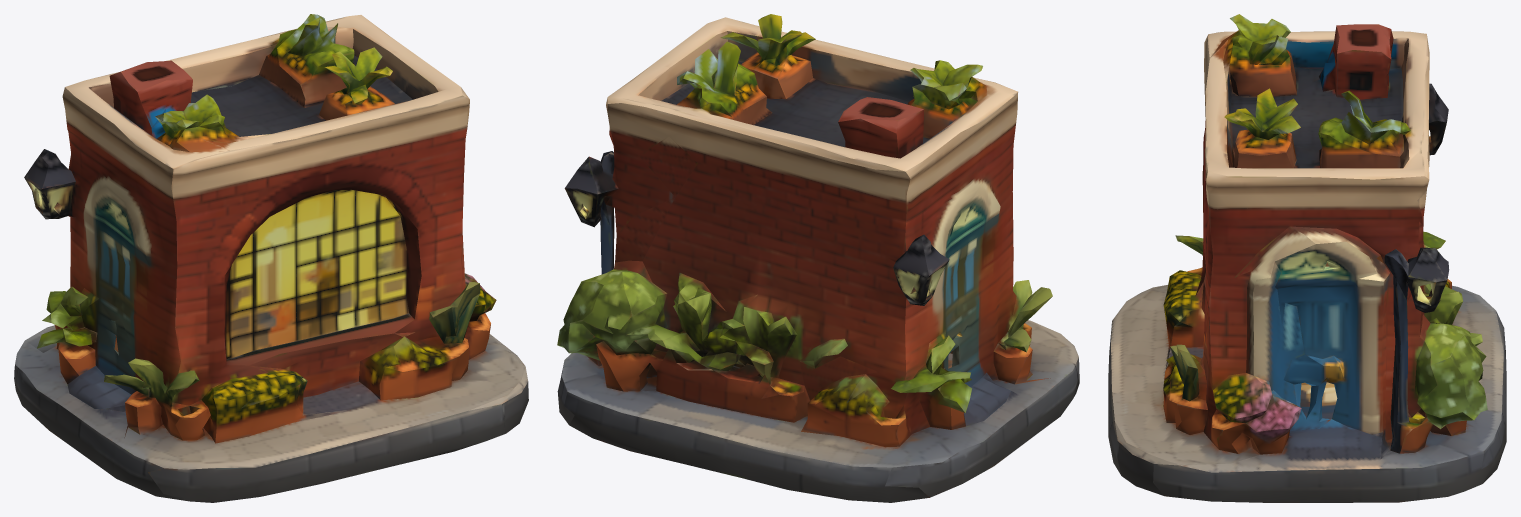
The model's file is house-brick-studio.glb.
The picture shows the model from 3 angles, left to right: view 1: azimuth 30°, elevation 25°; view 2: azimuth 150°, elevation 25°; view 3: azimuth 270°, elevation 25°; orthographic projection.
Visible parts, largest first — view 1: geometry_0; view 2: geometry_0; view 3: geometry_0.
Boxes of the visible parts, x1,y1,x2,y2 form: geometry_0: (14, 14, 528, 502); geometry_0: (557, 14, 1079, 502); geometry_0: (1108, 14, 1506, 502).
Bounding box in the file's own units: 1 × 0.8456 × 0.8695.
Materials: 1 (1 with a texture image).
